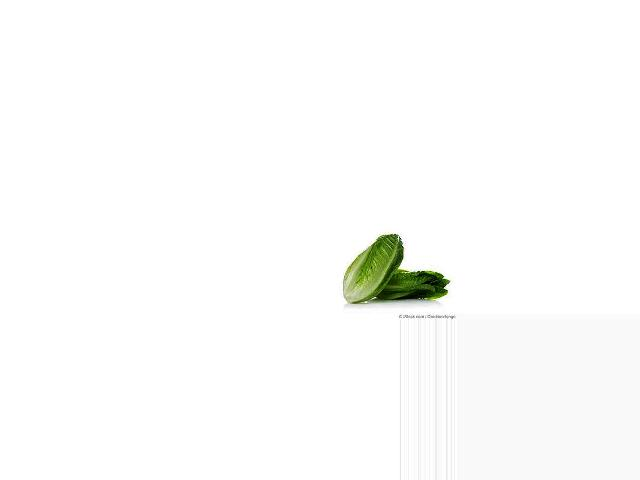lettuce: (376, 262, 448, 309)
